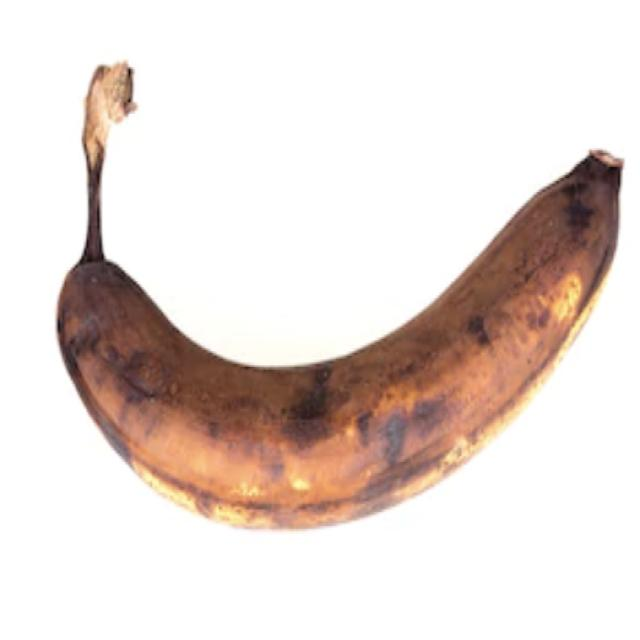rotten-banana: (54, 58, 624, 530)
